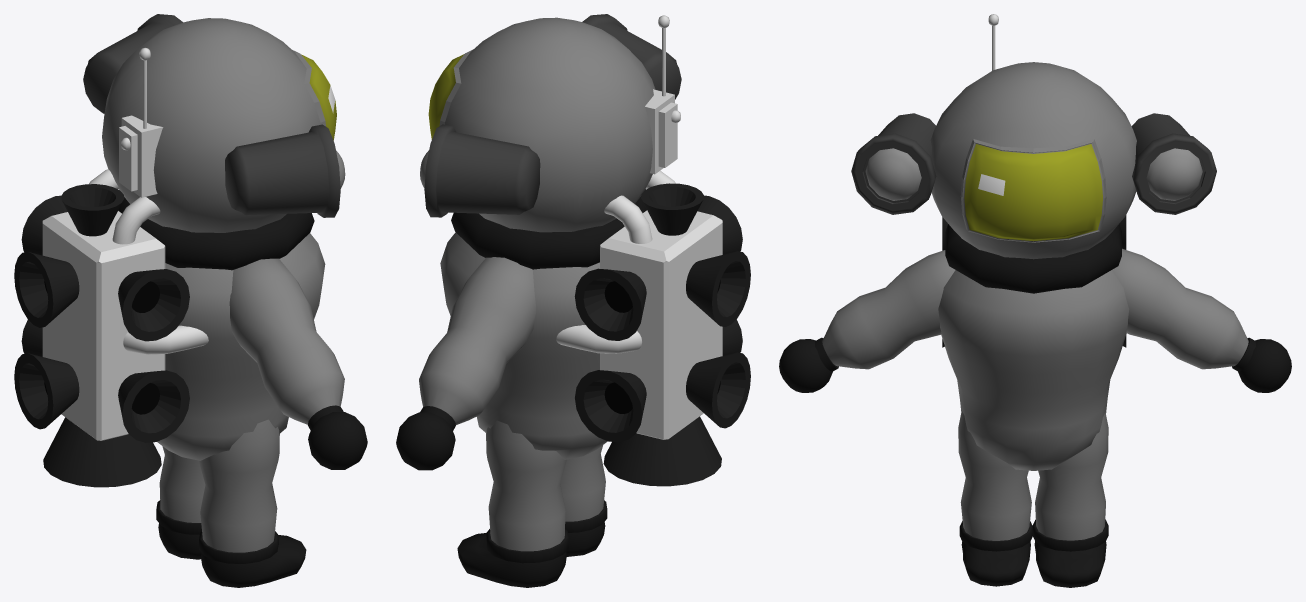
File: Space_Man.fbx
The picture shows the model from 3 angles, left to right: view 1: azimuth 30°, elevation 25°; view 2: azimuth 150°, elevation 25°; view 3: azimuth 270°, elevation 25°; orthographic projection. The views are drawn at different scales.
Visible parts, largest first — view 1: polySurface146, polySurface151, pCube10, pCylinder37, pCube12; view 2: polySurface146, polySurface151, pCube10, pCylinder37, pCube12; view 3: polySurface146.
Boxes of the visible parts, x1,y1,x2,y2 form: polySurface146: (83,14,367,587); polySurface151: (14,184,189,487); pCube10: (42,211,165,440); pCylinder37: (89,169,208,354); pCube12: (119,60,163,197); polySurface146: (396,14,681,587); polySurface151: (574,183,750,486); pCube10: (600,210,722,439); pCylinder37: (556,170,675,353); pCube12: (645,28,677,174); polySurface146: (779,62,1291,587).
Bounding box in the file's own units: 6.85 × 12.34 × 11.37.
